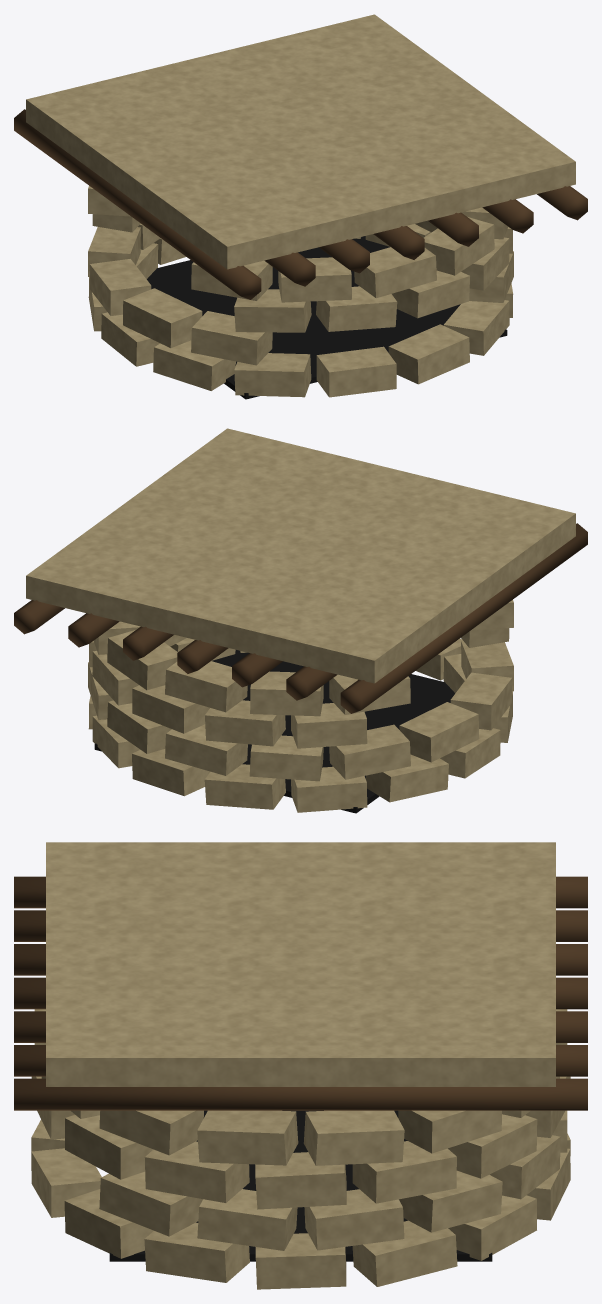
Rendered from bunker.fbx.
3 renders of one model, top to bottom at view 1: azimuth 30°, elevation 25°; view 2: azimuth 150°, elevation 25°; view 3: azimuth 270°, elevation 25°, orthographic. The views are drawn at different scales.
Visible parts, largest first — view 1: Bunker; view 2: Bunker; view 3: Bunker.
Boxes of the visible parts, <box> form: Bunker: <box>14,14,587,399</box>; Bunker: <box>14,428,587,813</box>; Bunker: <box>14,842,587,1289</box>.
Size of the model in its own units: 3.38 by 1.6 by 3.6.
